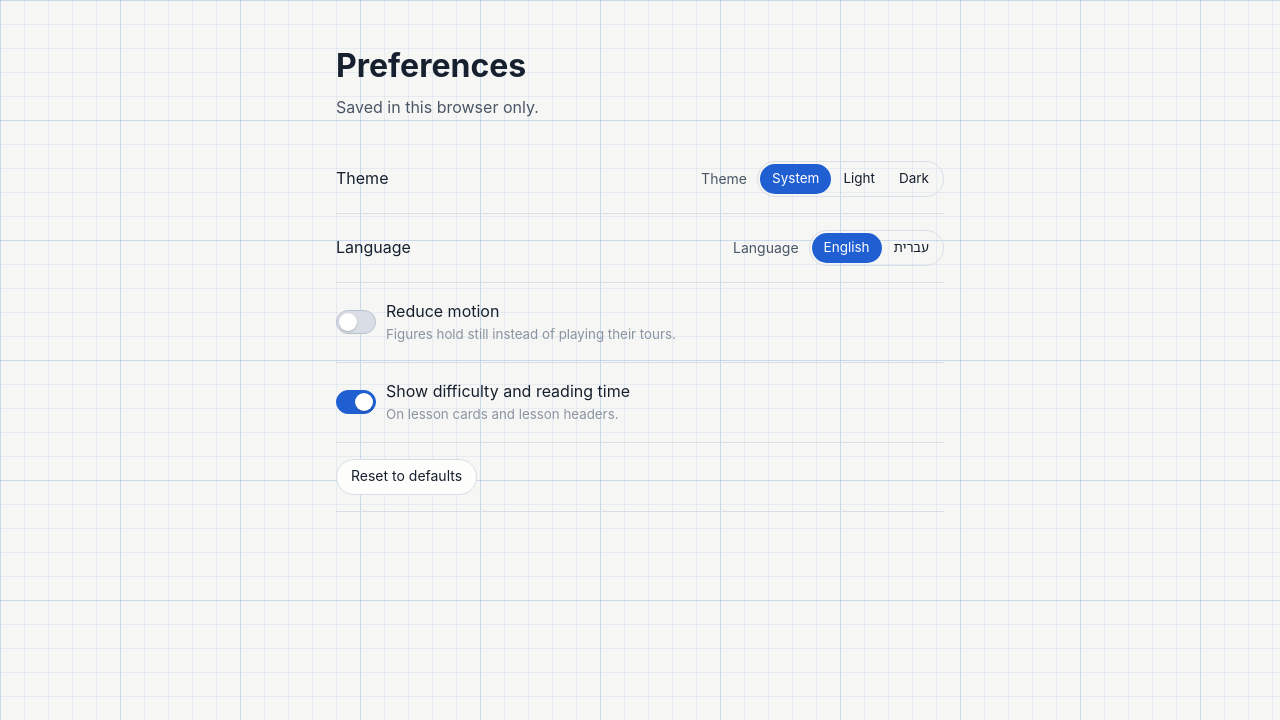
it: preferences › switches the page to Hebrew, right to left
The width and height of the screenshot is (1280, 720).
Click the button "עברית": click(911, 248) top-left (882, 233), bottom-right (941, 263)
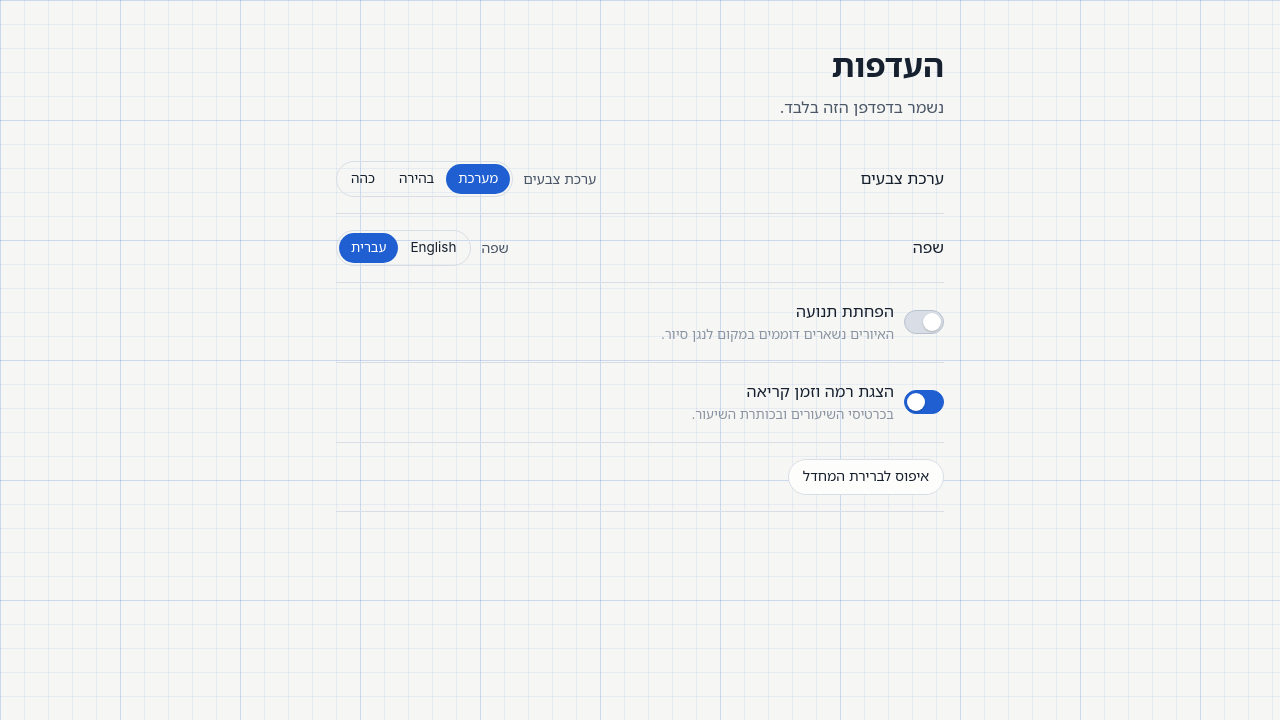
Expected: the heading "העדפות" is shown, top-left (832, 46), bottom-right (944, 85)
